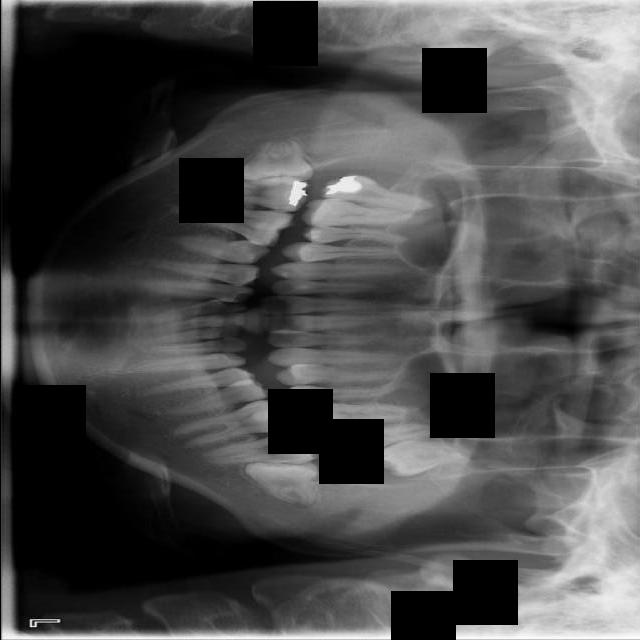52: (316, 420, 369, 474), (318, 165, 378, 208), (271, 173, 311, 218)
73: (43, 602, 69, 608)
BioHorizons Implant: (320, 419, 445, 465)
BioLife Implant: (374, 438, 488, 480)
Biomet 3i Implant: (241, 453, 320, 508)
Blue Sky Bio Implant: (203, 430, 318, 465)
Caries: (320, 169, 436, 214)
Implant: (191, 175, 312, 217)
Keystone Dental Implant: (231, 136, 316, 191)
